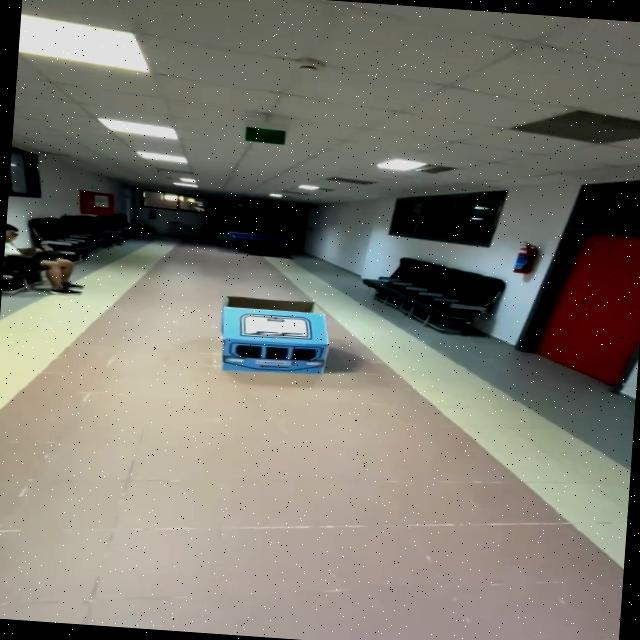blue_car: (194, 282, 358, 387)
